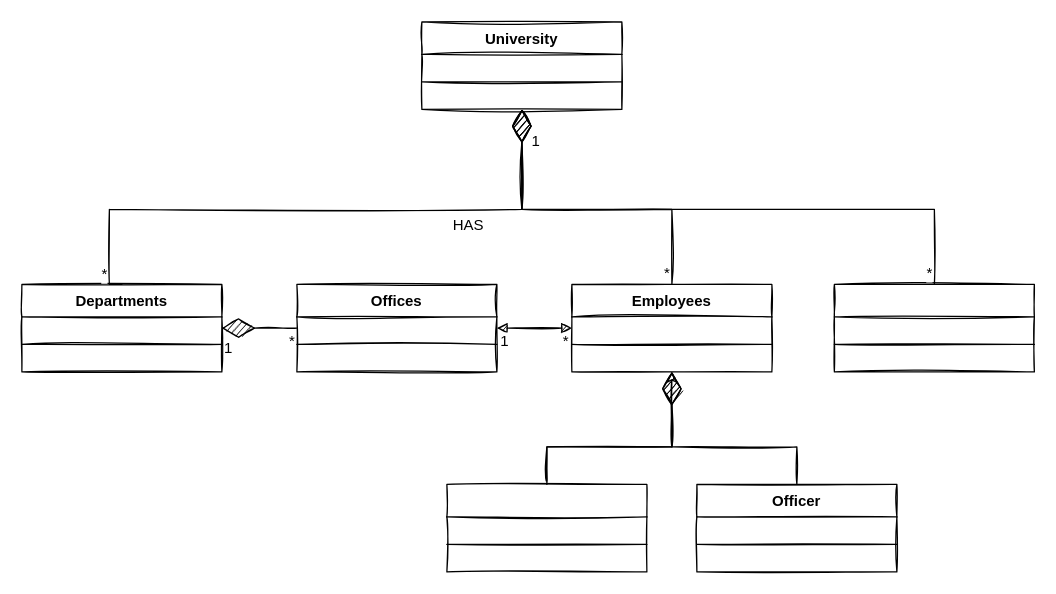
Image size: 1056x594. Some labels were removed from this diagram. Each missing label, with the centre of its shape:
Classes: the point at 933,327
Professor: the point at 546,527
